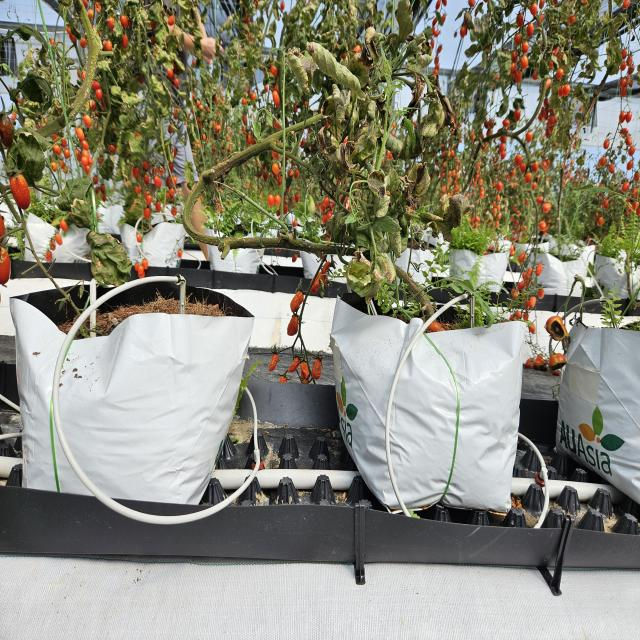Obstacle: (48, 267, 190, 477), (388, 292, 474, 432)
Soilbag: (20, 277, 238, 510), (347, 292, 520, 522), (564, 316, 640, 490)
plant: (322, 8, 515, 301), (36, 3, 210, 289), (572, 19, 640, 300)
